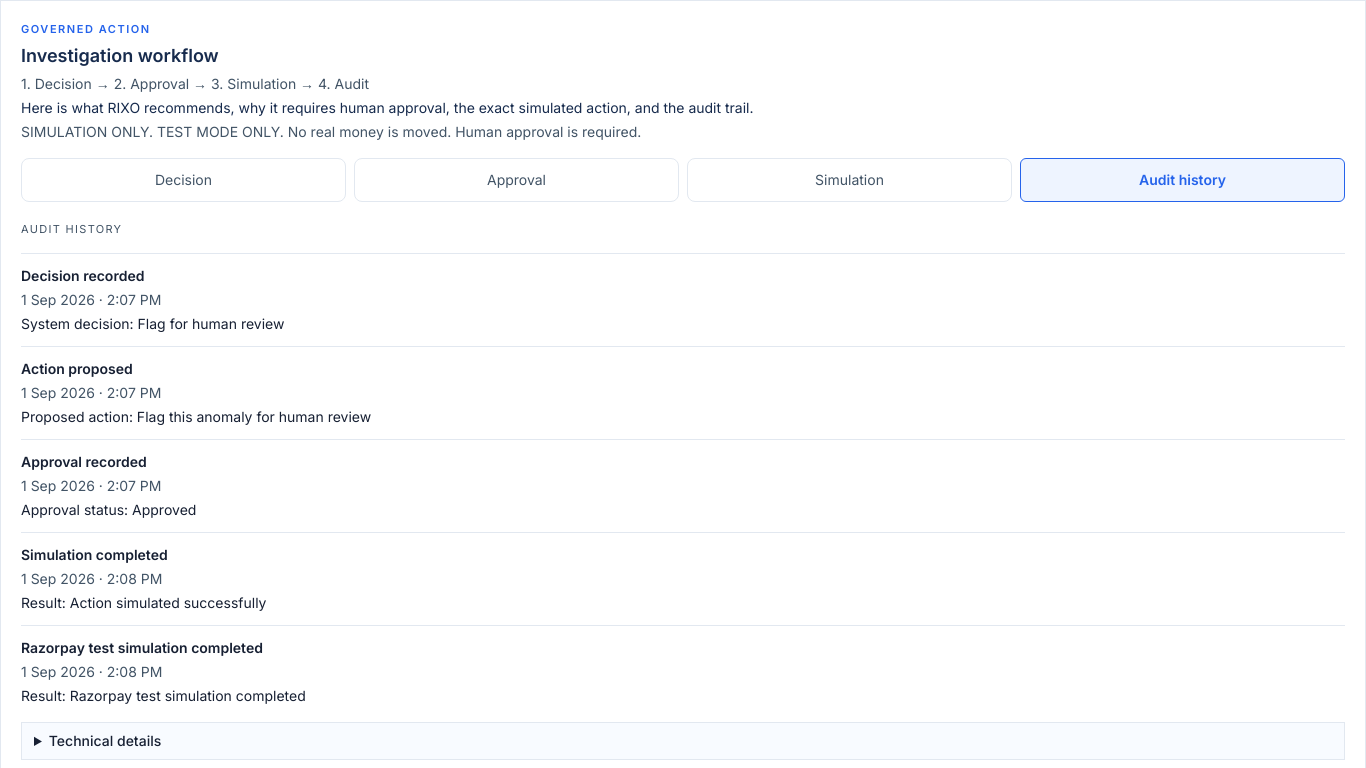
simulation tab distinguishes internal and Razorpay TEST results
The image size is (1366, 768).
Check: the text "Human approval is required" is shown, box [149, 122, 641, 140]
Click the tab "Simulation".
click(850, 180)  # box [687, 158, 1012, 202]
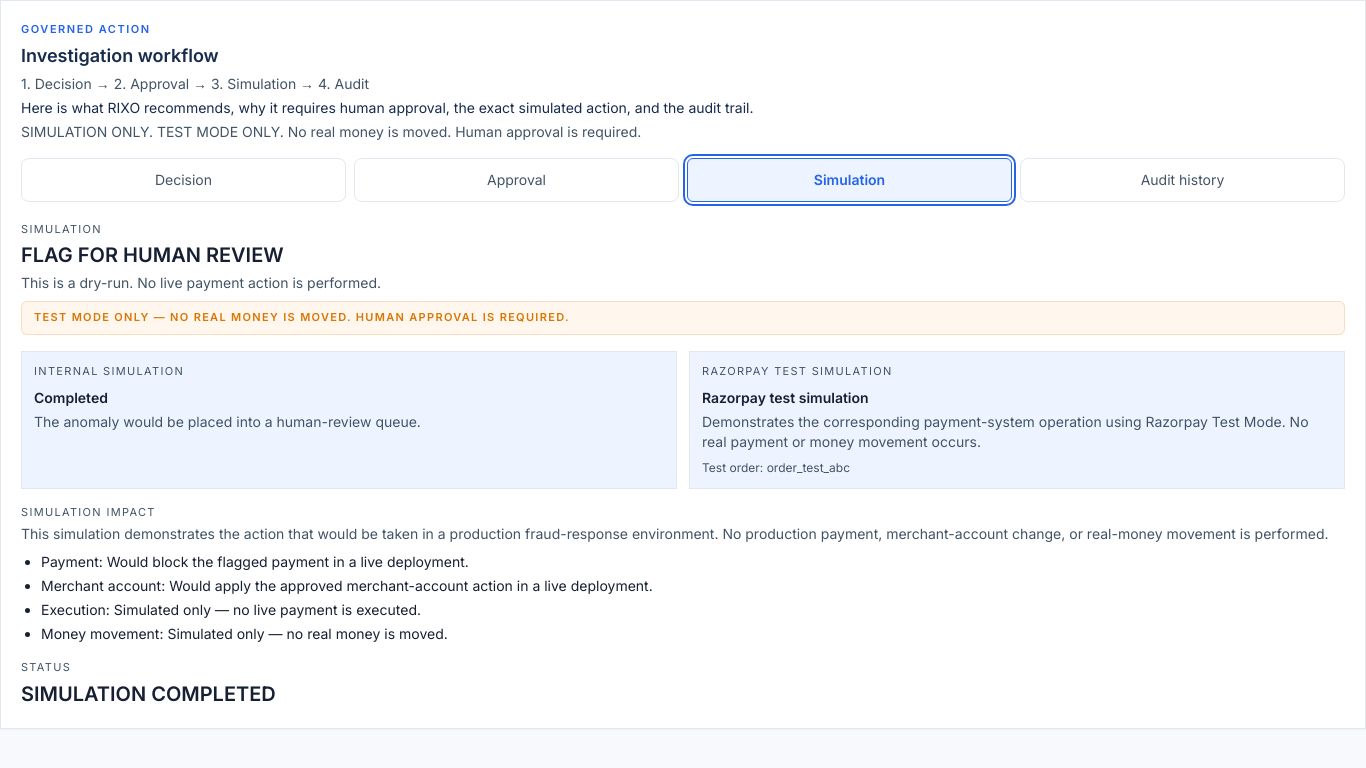
Check: the text "Internal simulation" is shown, box [34, 364, 184, 378]
Check: the text "Demonstrates the corresponding payment-system operation using Razorpay Test Mode. No real payment or money movement occu" is shown, box [702, 413, 1309, 450]
Check: the text "Test order: order_test_abc" is shown, box [702, 460, 850, 475]
Click the tab "Audit history".
click(1182, 180)  # box [1020, 158, 1345, 202]
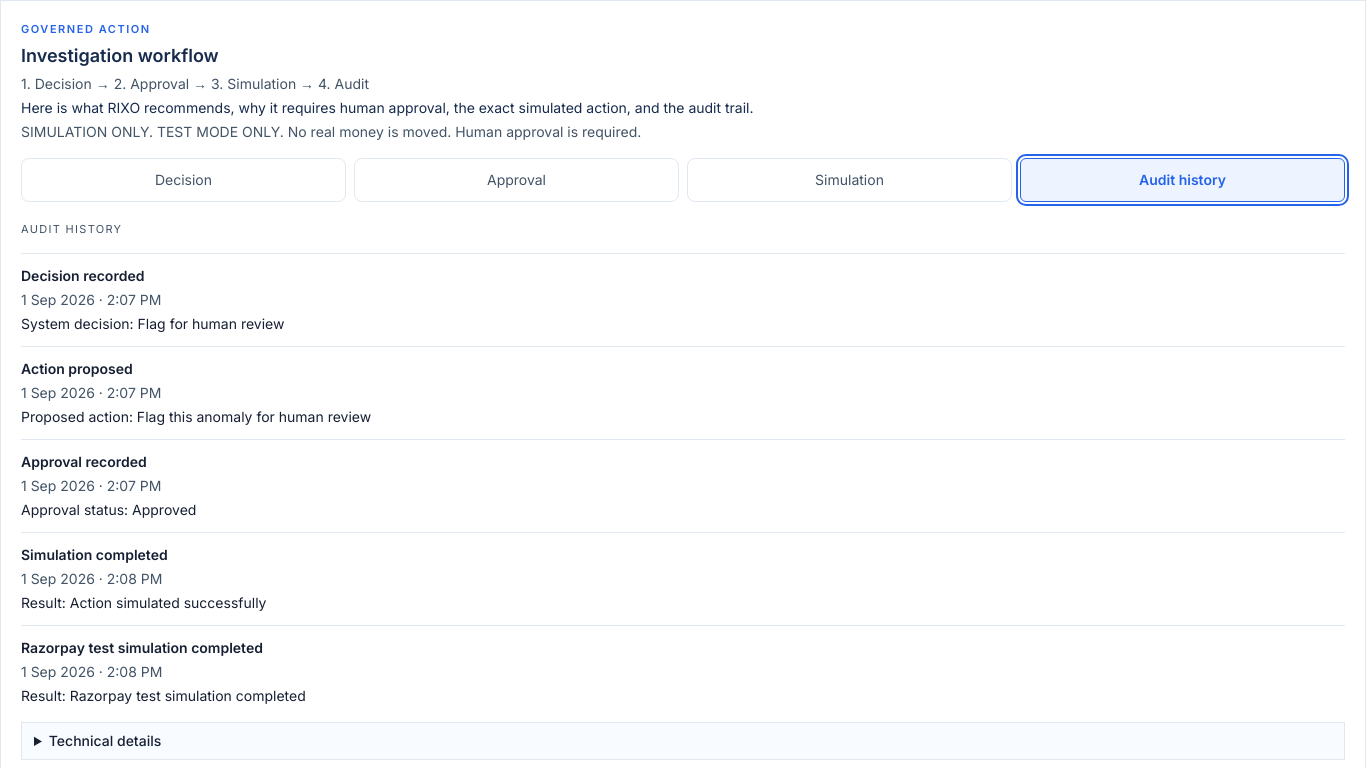
Check: the text "Razorpay test simulation completed" is shown, box [21, 639, 263, 656]
